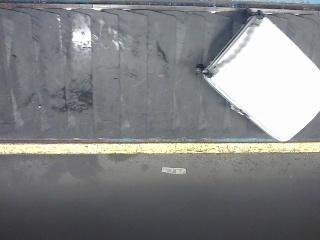Suitcase: (204, 17, 320, 142)
